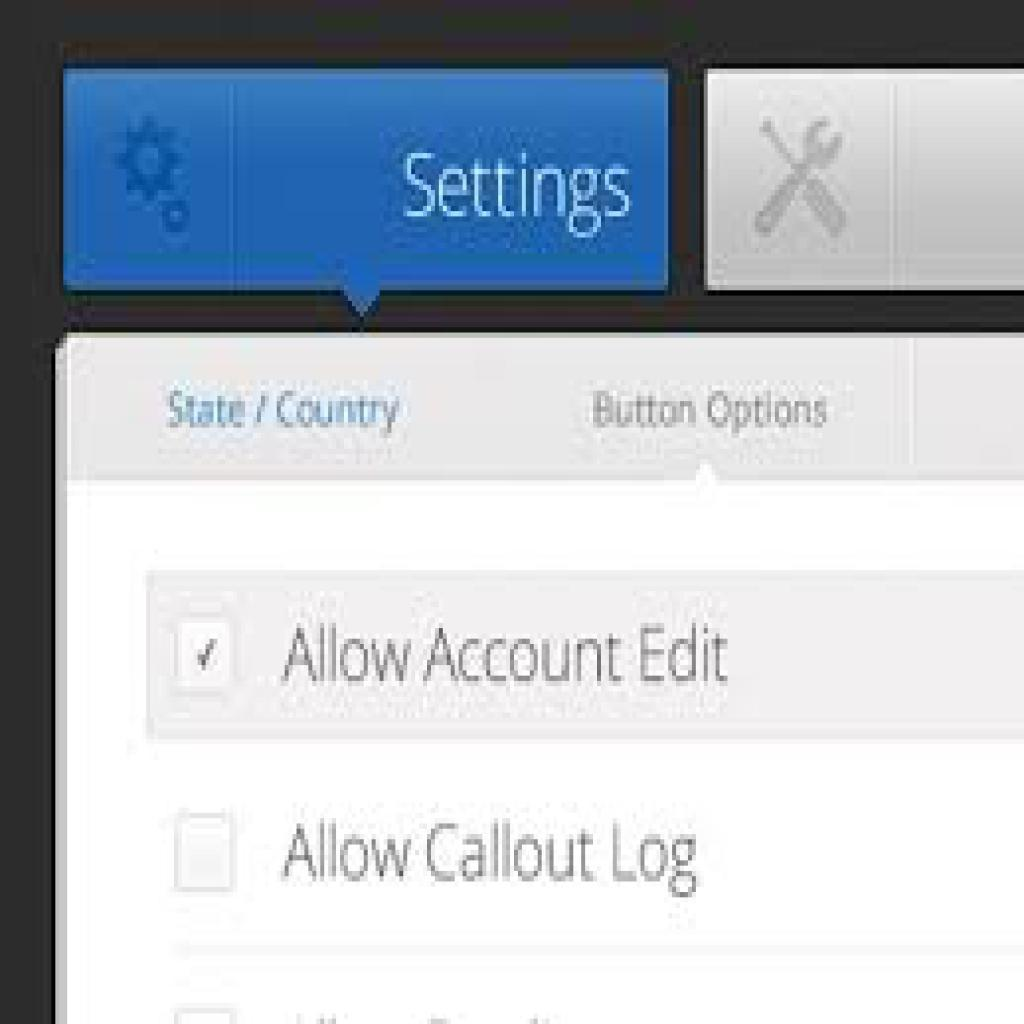checkbox: (173, 611, 239, 697), (177, 808, 237, 889)
icon: (749, 109, 868, 257)
